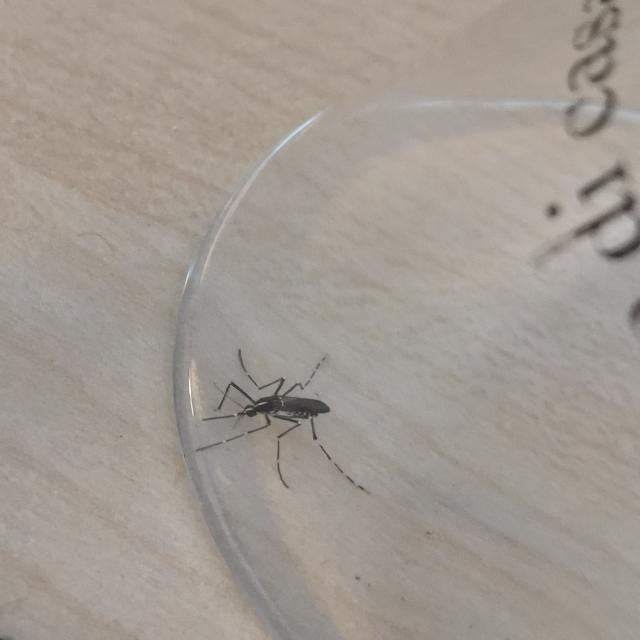albopictus: (175, 342, 378, 492)
